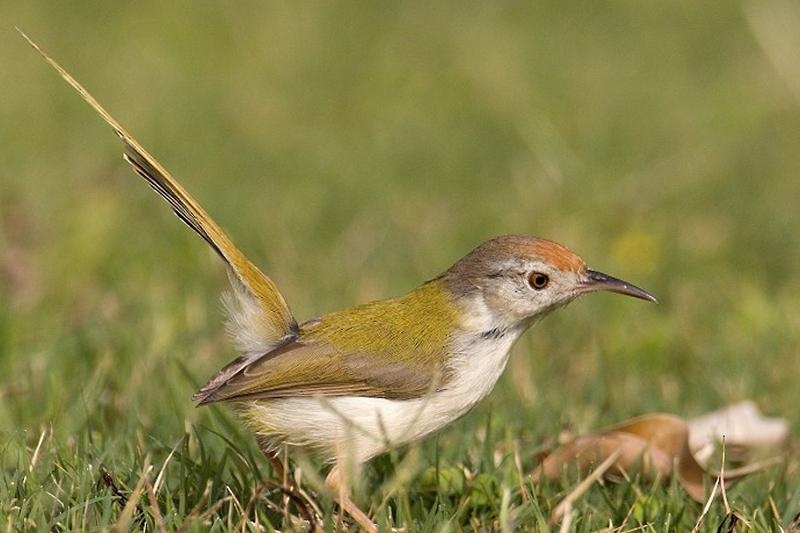tailorbird: (44, 121, 685, 492)
